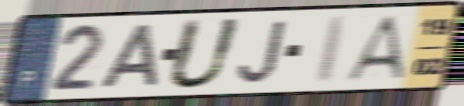2: (49, 21, 106, 94)
A: (343, 13, 409, 84), (95, 22, 162, 91)
I: (314, 14, 351, 86)
J: (236, 19, 290, 86)
U: (163, 16, 246, 92)
